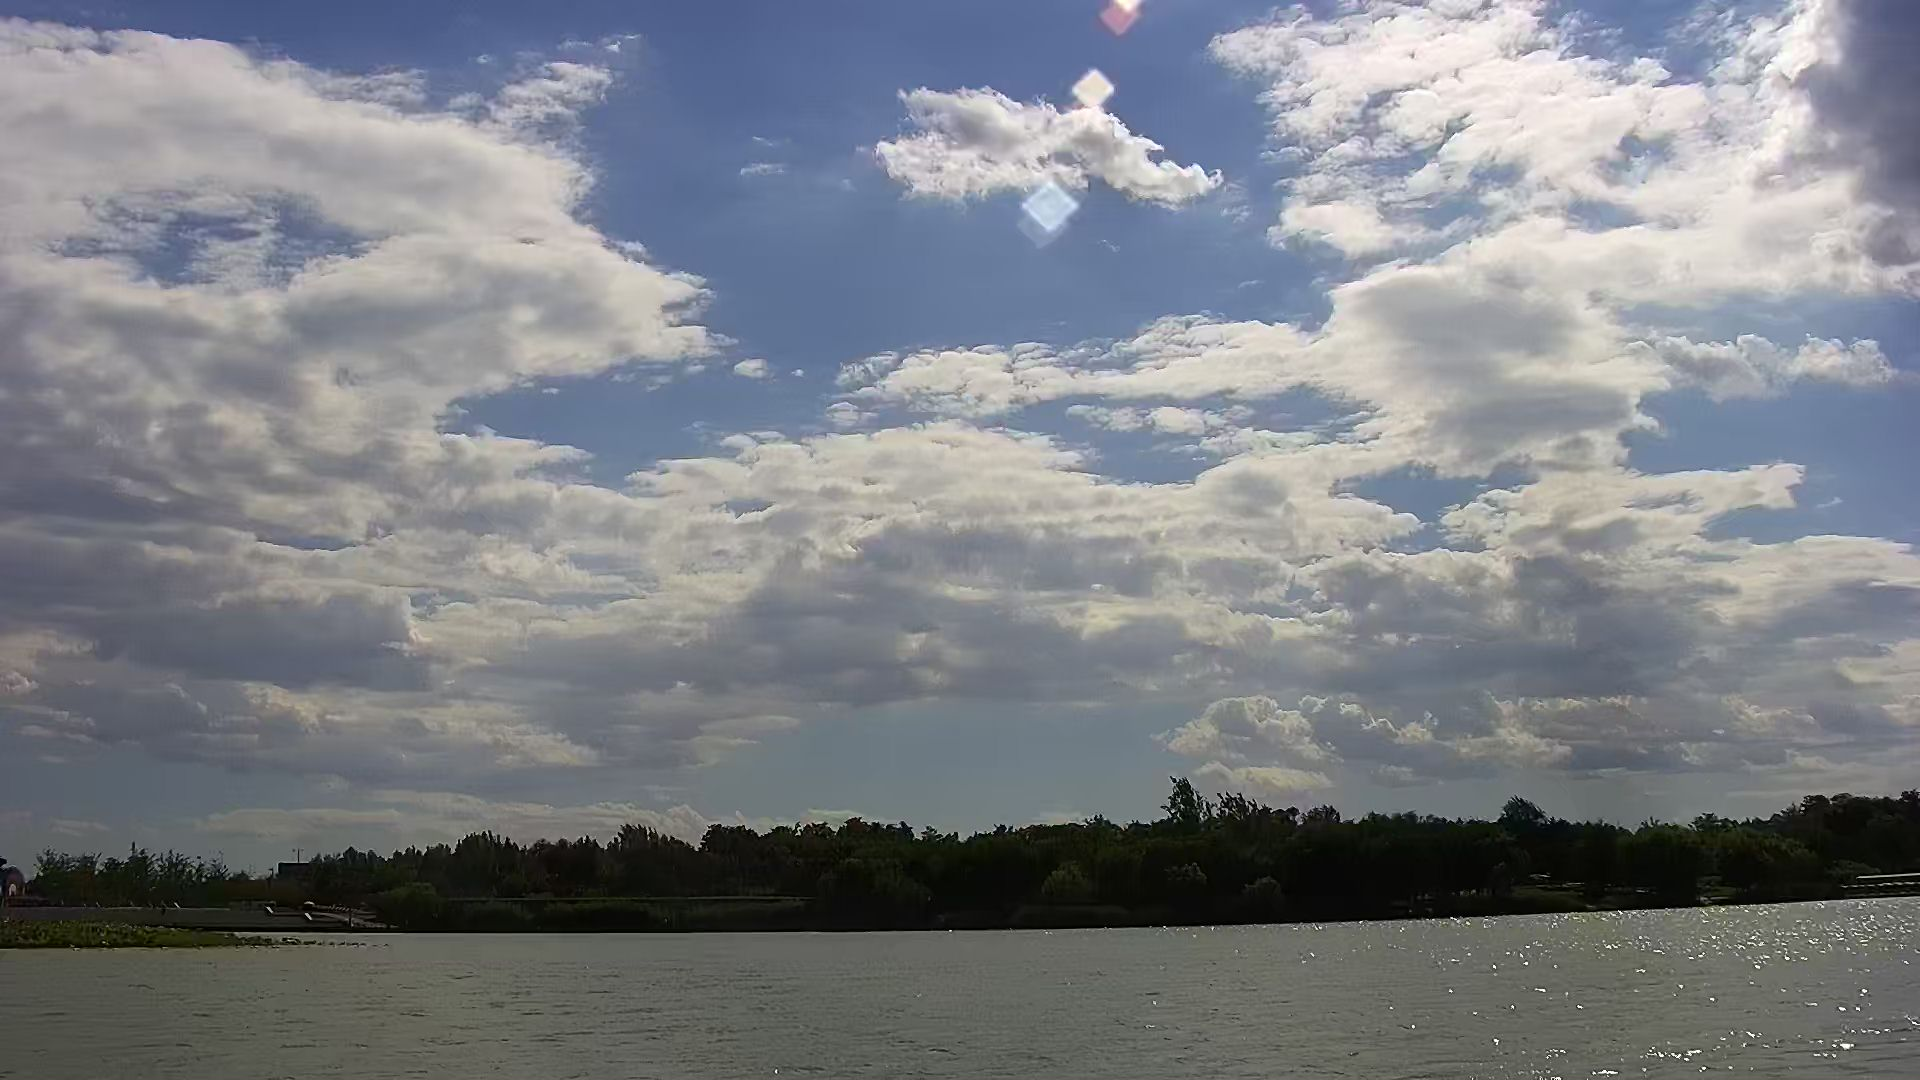harbor: (7, 887, 411, 931), (1824, 855, 1920, 893)
